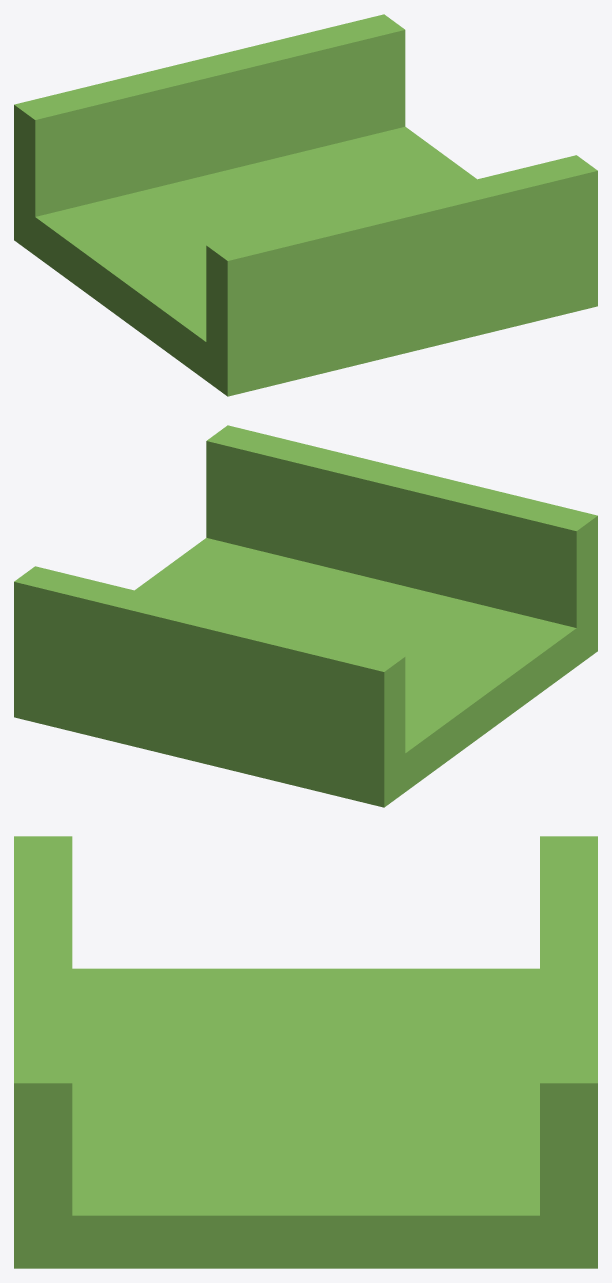
Rendered from LimeRoof_2Edges_Small.glb.
The picture shows the model from 3 angles, top to bottom: view 1: azimuth 30°, elevation 25°; view 2: azimuth 150°, elevation 25°; view 3: azimuth 270°, elevation 25°; orthographic projection. The views are drawn at different scales.
Parts seen in each view (by area): view 1: roof_flat_2Edges_small_lime; view 2: roof_flat_2Edges_small_lime; view 3: roof_flat_2Edges_small_lime.
Boxes of the visible parts, x1,y1,x2,y2 form: roof_flat_2Edges_small_lime: (14,14,597,396); roof_flat_2Edges_small_lime: (14,425,597,807); roof_flat_2Edges_small_lime: (14,836,597,1268).
Size of what is drawn, in the model's own units: 2 by 0.7 by 2.
Materials: 1 (1 with a texture image).
